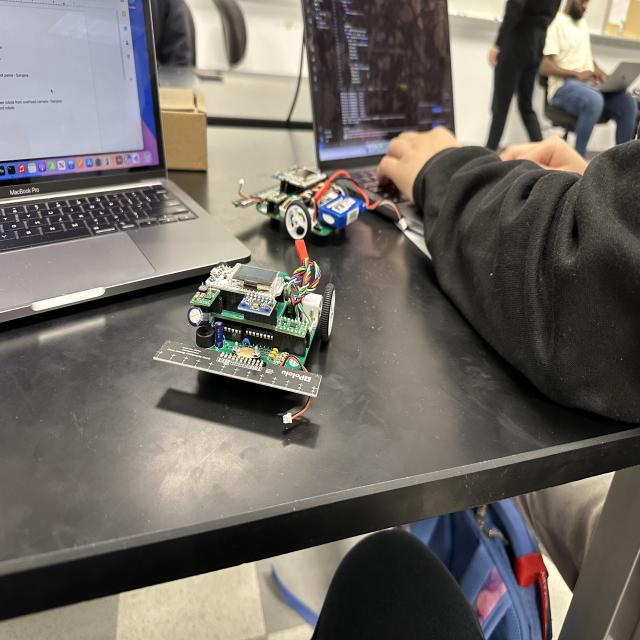robot: (143, 256, 360, 433), (232, 162, 368, 241)
